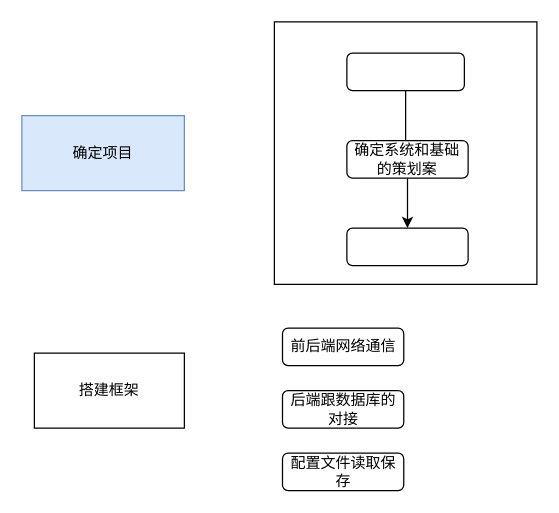
The diagram is 559 pixels wide and 513 high, and some of its shapes have lost their labels. The shapes that lost their labels are listed below. From the top down, each one's centre as x and y in pixels, then its label:
At point (405, 71): "确定游戏类型".
At point (407, 246): "美术资源".
